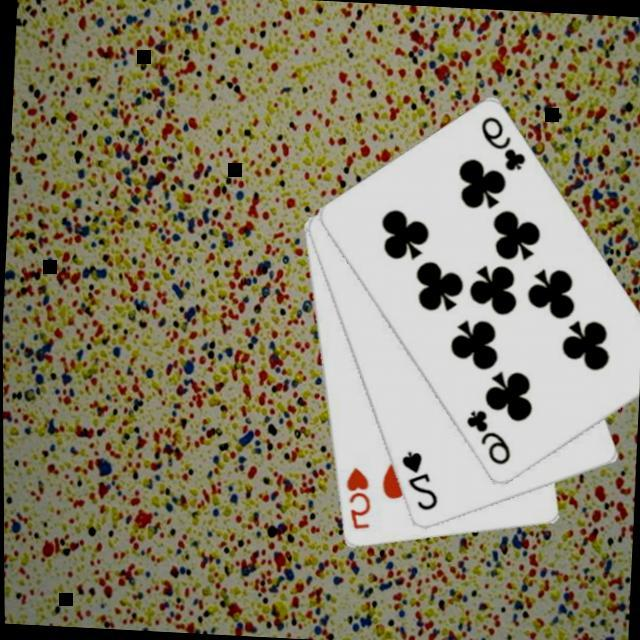2S: (396, 446, 444, 513)
5H: (340, 462, 376, 532)
9C: (460, 404, 516, 468), (476, 112, 532, 174)
